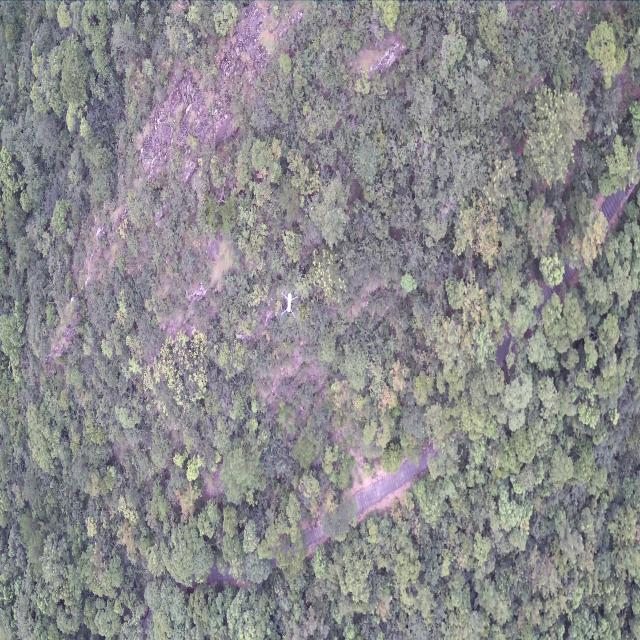UAV: (280, 291, 298, 318)
